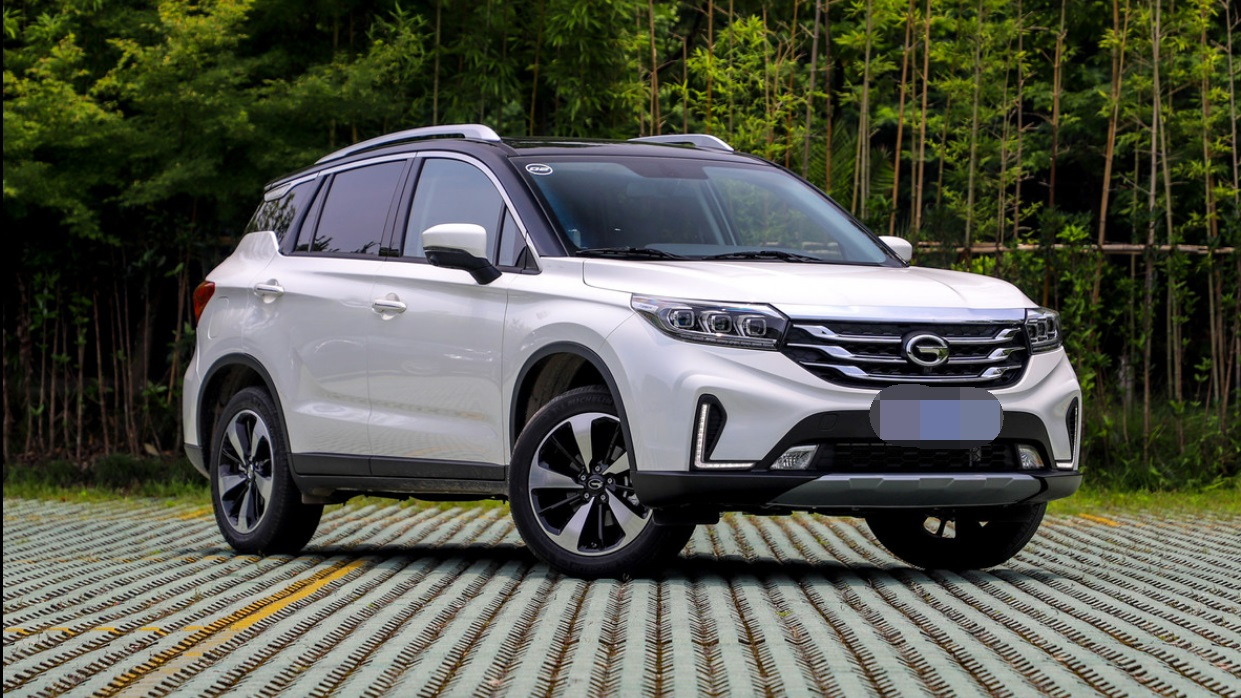SUV: (173, 115, 1088, 583)
